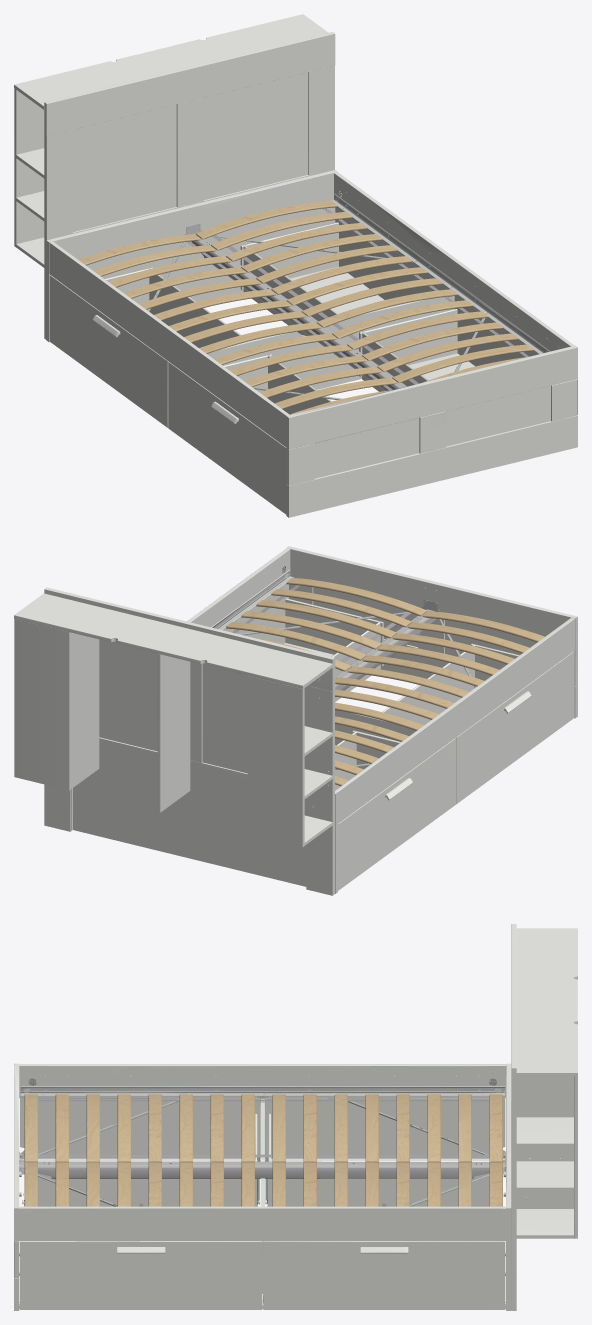
File: brimnes_rama_ozka_z_pojemnikiem_zagowek_59157447.glb
3 renders of one model, top to bottom at view 1: azimuth 30°, elevation 25°; view 2: azimuth 150°, elevation 25°; view 3: azimuth 270°, elevation 25°, orthographic. The views are drawn at different scales.
Visible parts, largest first — view 1: brimnes_rama_ozka_z_pojemnikiem_zagowek_59157447; view 2: brimnes_rama_ozka_z_pojemnikiem_zagowek_59157447; view 3: brimnes_rama_ozka_z_pojemnikiem_zagowek_59157447.
Part boxes in pixels (x1,y1,x2,y2): brimnes_rama_ozka_z_pojemnikiem_zagowek_59157447: (14,14,577,517); brimnes_rama_ozka_z_pojemnikiem_zagowek_59157447: (14,546,577,895); brimnes_rama_ozka_z_pojemnikiem_zagowek_59157447: (14,924,577,1310).
Size of the model in its own units: 1.46 by 1.11 by 2.34.
4 materials, 3 textured.
